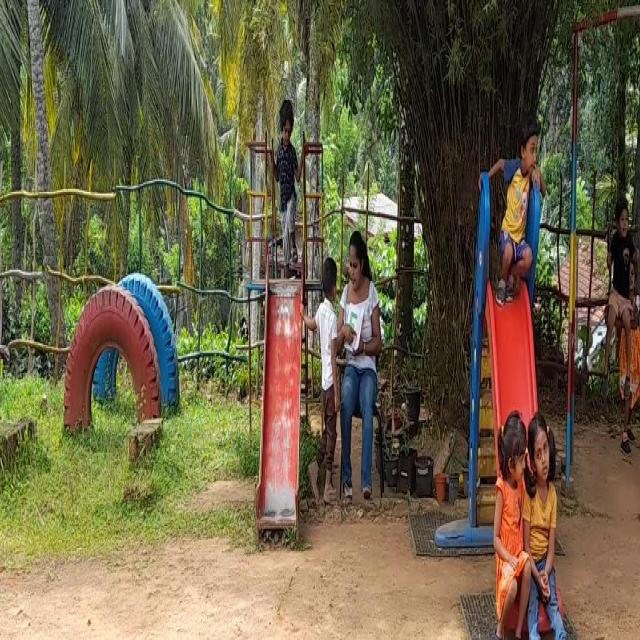adult: (336, 222, 395, 493)
child: (526, 406, 572, 640), (491, 387, 525, 640), (498, 88, 538, 301), (310, 244, 339, 500), (603, 193, 637, 386), (270, 91, 302, 259)
